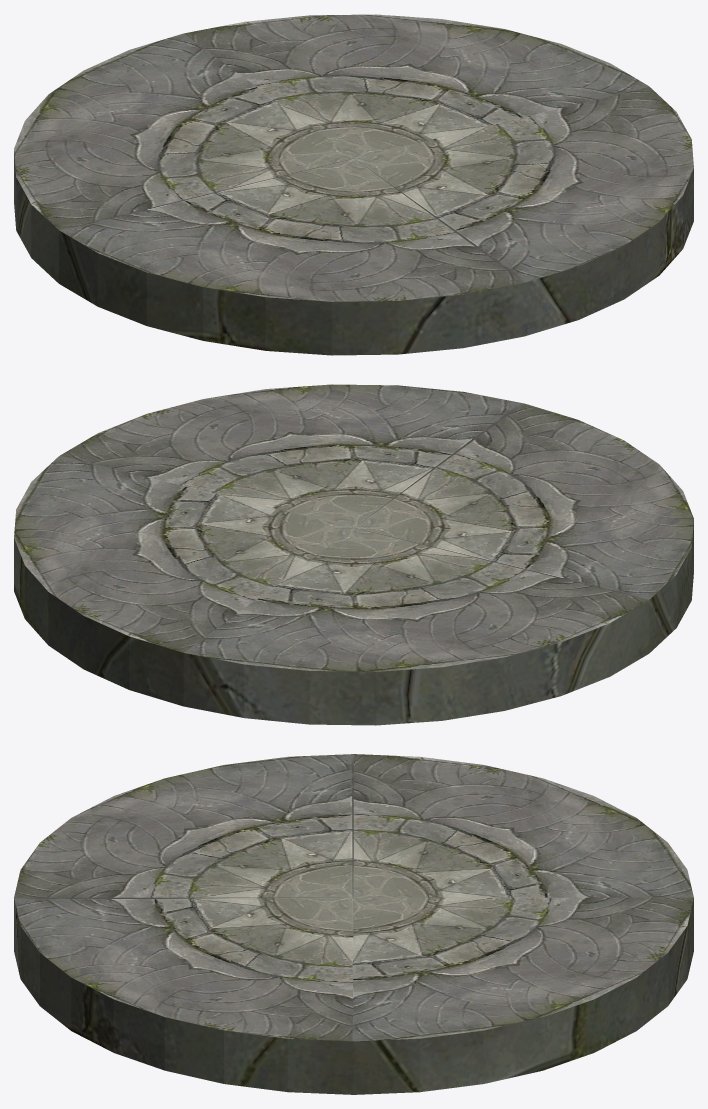
The model's file is Stone_Disk.fbx.
3 views of the same model, one above another, from view 1: azimuth 30°, elevation 25°; view 2: azimuth 150°, elevation 25°; view 3: azimuth 270°, elevation 25° (orthographic).
Visible parts, largest first — view 1: StoneDisk; view 2: StoneDisk; view 3: StoneDisk.
Boxes of the visible parts, x1,y1,x2,y2 form: StoneDisk: [14, 14, 693, 355]; StoneDisk: [14, 384, 693, 725]; StoneDisk: [14, 754, 693, 1094].
Bounding box in the file's own units: 1605 × 139 × 1605.
